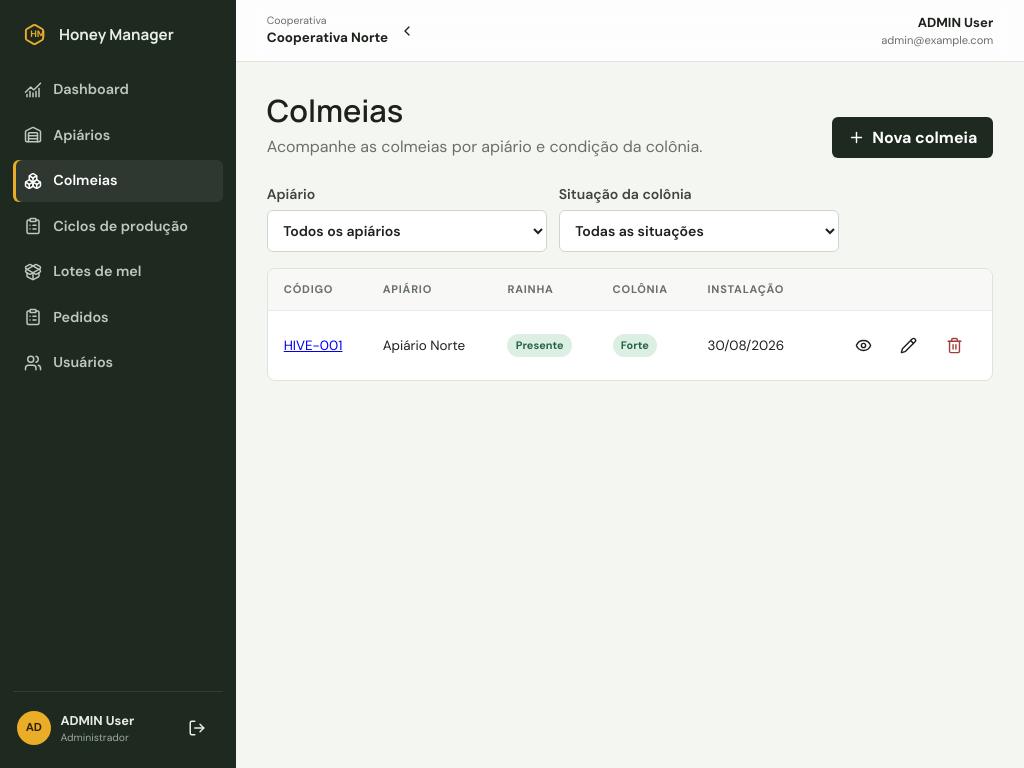
Scenario: Hive management › deletes only after confirmation and refreshes the filtered lists
This screenshot has width=1024, height=768.
Click the button named "Excluir HIVE-001".
click(954, 345)  # box [932, 323, 976, 367]
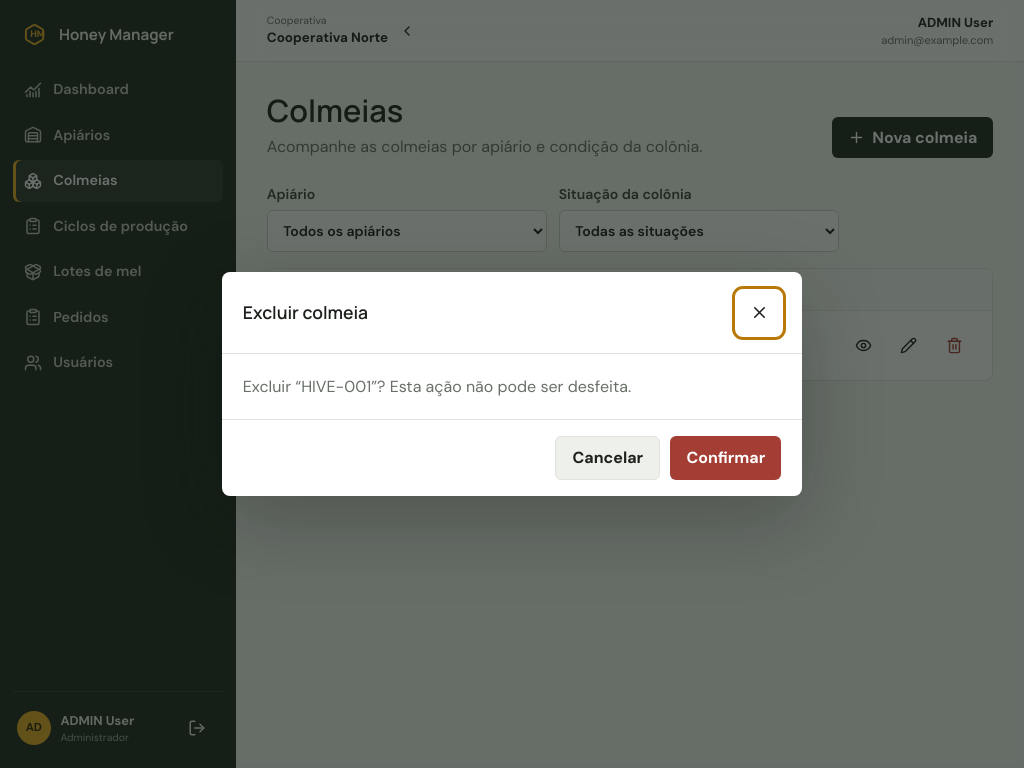
Now the dialog "Excluir colmeia" is shown, box [222, 272, 802, 496]
Click the button "Confirmar".
click(726, 458)  # box [670, 436, 781, 480]
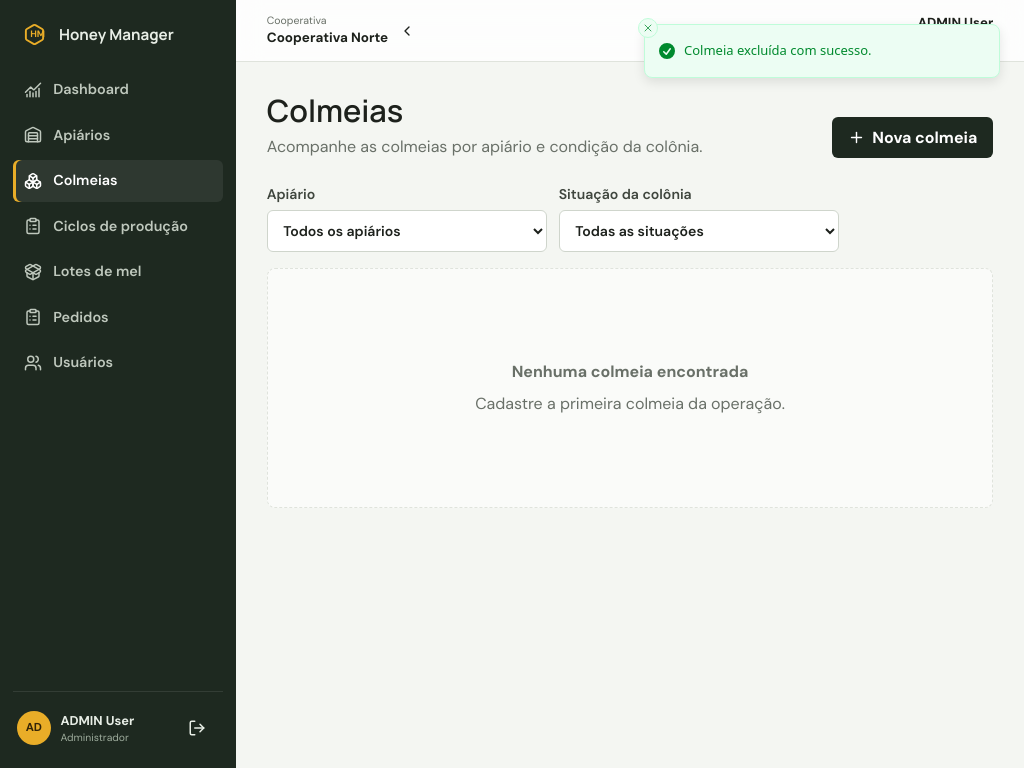
Now the text "Nenhuma colmeia encontrada" is shown, box [512, 360, 748, 384]
Now the text "Colmeia excluída com sucesso." is shown, box [684, 41, 872, 60]
